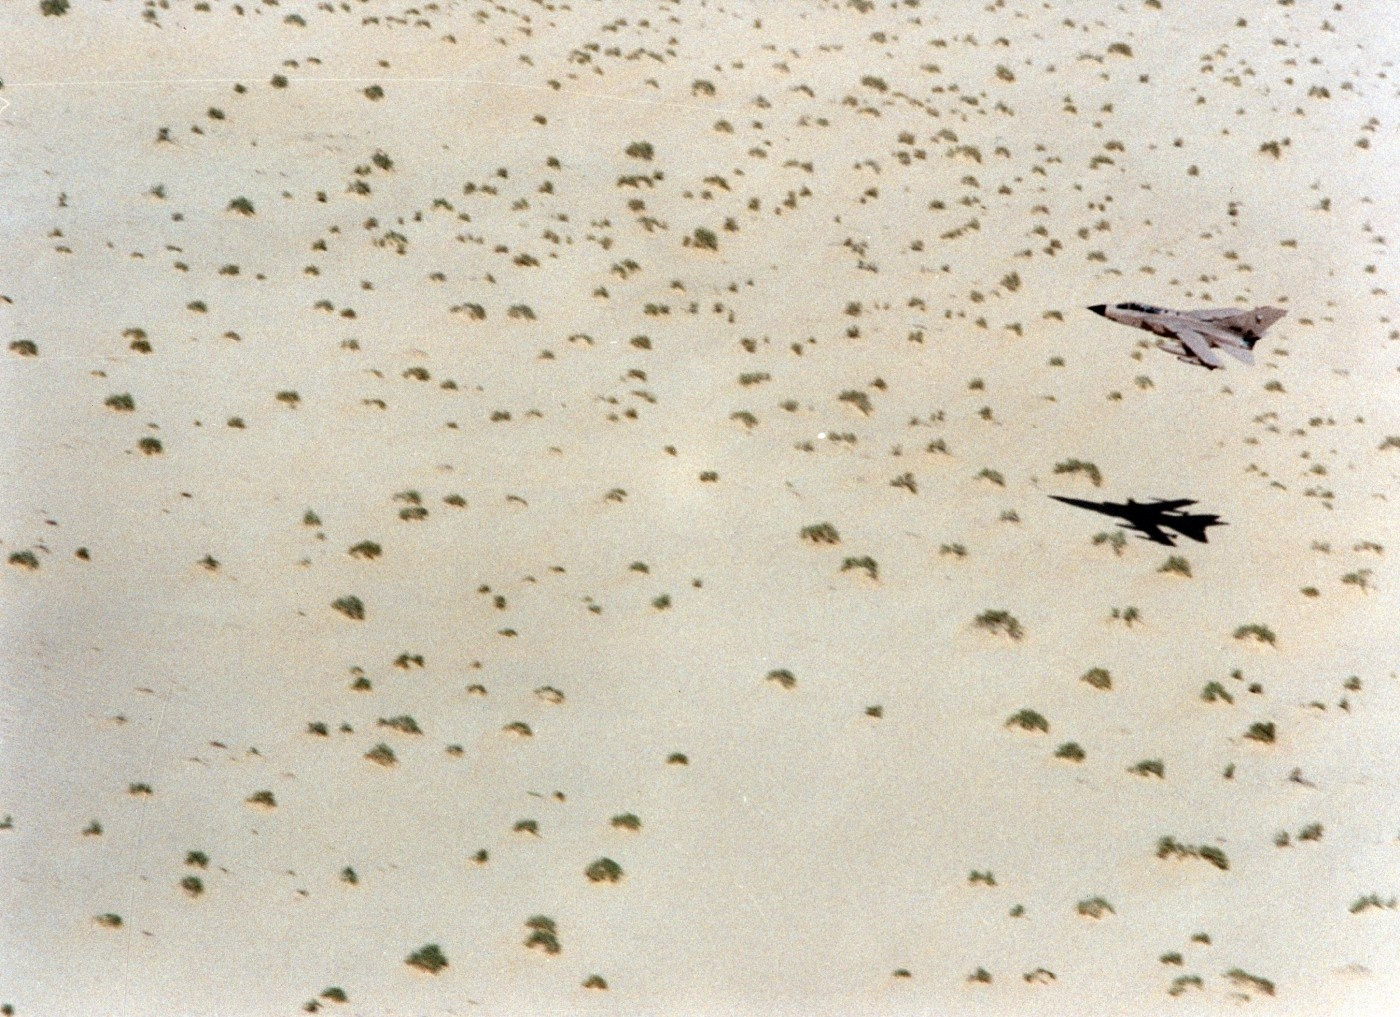Tornado: (1080, 301, 1290, 372)
